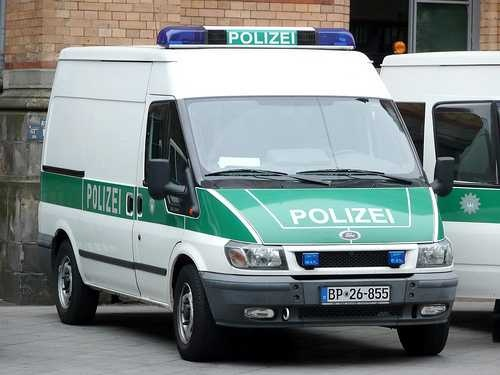Police Van: (49, 15, 446, 373), (383, 43, 500, 317)
